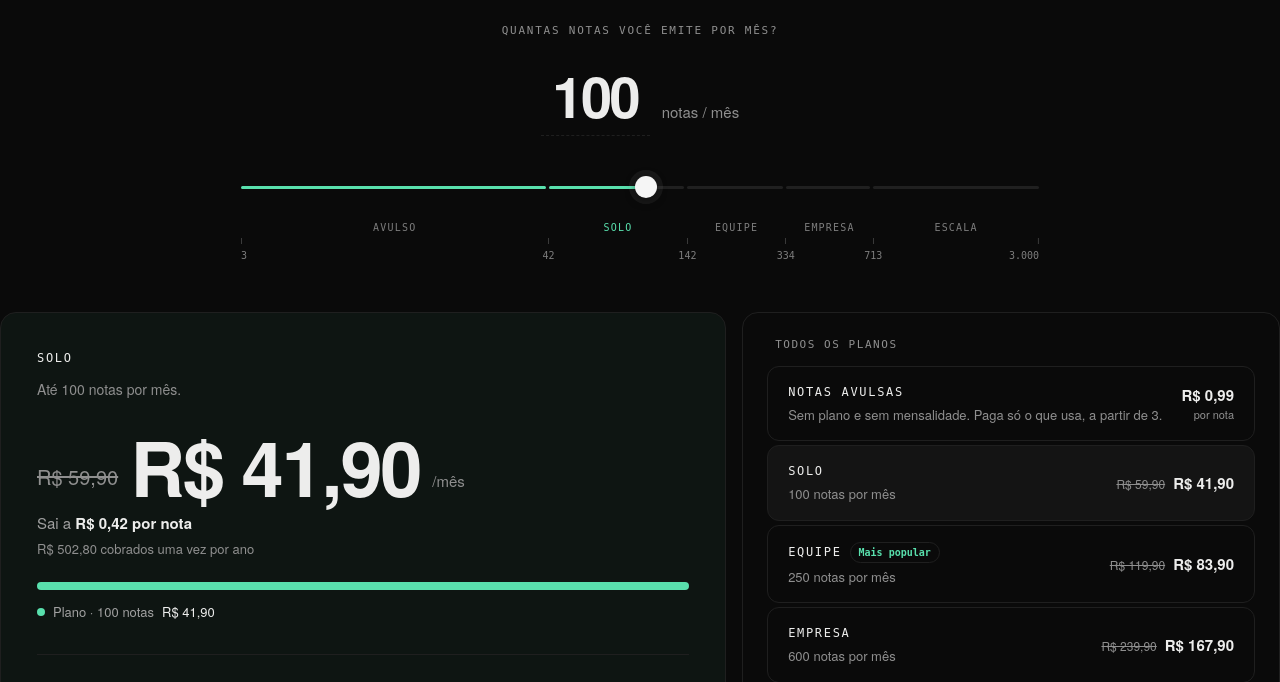
Scenario: plan picker › the slider drives the recommendation and draws a zone per option
Set the slider to "651" at (761, 187), box x1=230 y1=176 x2=1050 y2=198
(page scrolled)
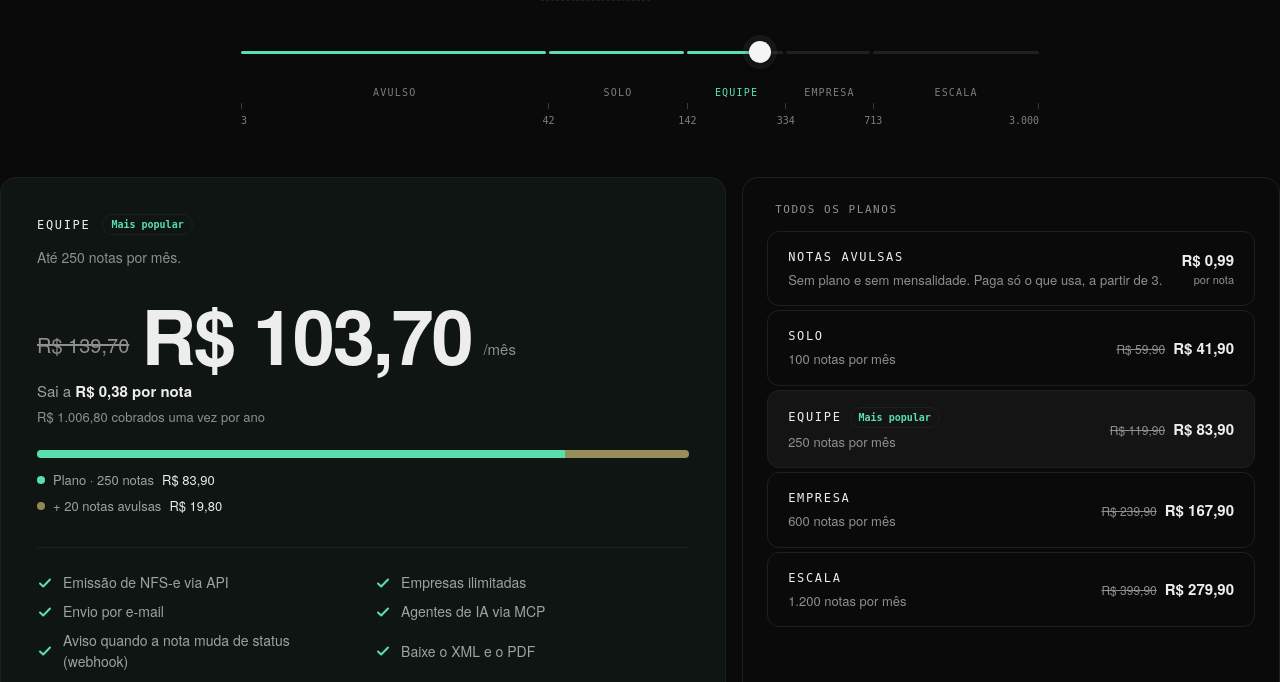
Expected: the element with test id "featured-plan" shows "EQUIPE", x1=37 y1=218 x2=90 y2=232
Expected: the element with test id "featured-plan" shows "20", x1=53 y1=496 x2=161 y2=515
